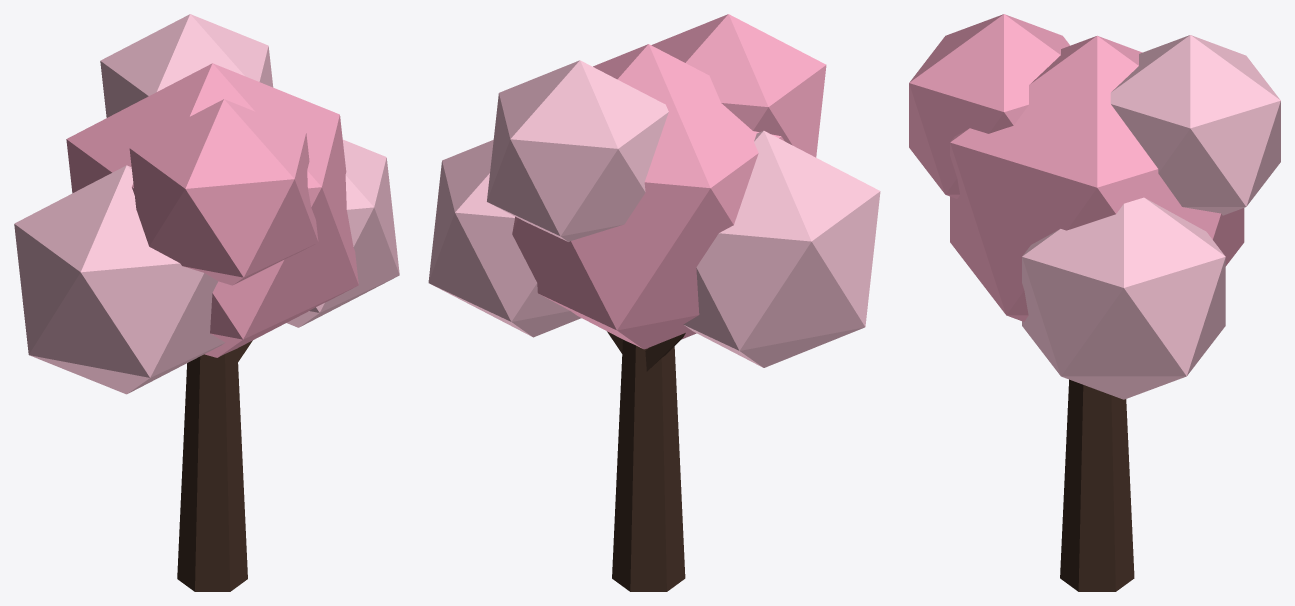
File: sakura.glb
3 views of the same model, side by side, from view 1: azimuth 30°, elevation 25°; view 2: azimuth 150°, elevation 25°; view 3: azimuth 270°, elevation 25° (orthographic). The views are drawn at different scales.
Parts seen in each view (by area): view 1: Icosphere.002, Icosphere.004, Icosphere, Cone, Icosphere.003, Icosphere.001; view 2: Icosphere, Icosphere.002, Icosphere.003, Cone, Icosphere.001, Icosphere.004; view 3: Icosphere, Icosphere.001, Icosphere.003, Icosphere.004, Cone.
Part boxes in pixels (left/top/right/bottom): Icosphere.002: left=14, top=165, right=225, bottom=394; Icosphere.004: left=129, top=99, right=318, bottom=285; Icosphere: left=66, top=63, right=358, bottom=357; Cone: left=177, top=349, right=247, bottom=591; Icosphere.003: left=100, top=14, right=273, bottom=117; Icosphere.001: left=287, top=139, right=399, bottom=327; Icosphere: left=512, top=44, right=784, bottom=349; Icosphere.002: left=683, top=130, right=880, bottom=367; Icosphere.003: left=487, top=60, right=668, bottom=241; Cone: left=612, top=339, right=685, bottom=591; Icosphere.001: left=428, top=140, right=581, bottom=337; Icosphere.004: left=651, top=14, right=826, bottom=157; Icosphere: left=950, top=35, right=1244, bottom=321; Icosphere.001: left=1022, top=197, right=1225, bottom=399; Icosphere.003: left=1110, top=35, right=1280, bottom=215; Icosphere.004: left=909, top=14, right=1069, bottom=198; Cone: left=1060, top=379, right=1134, bottom=591.
Size of the model in its own units: 1.75 by 2.3 by 1.4.
